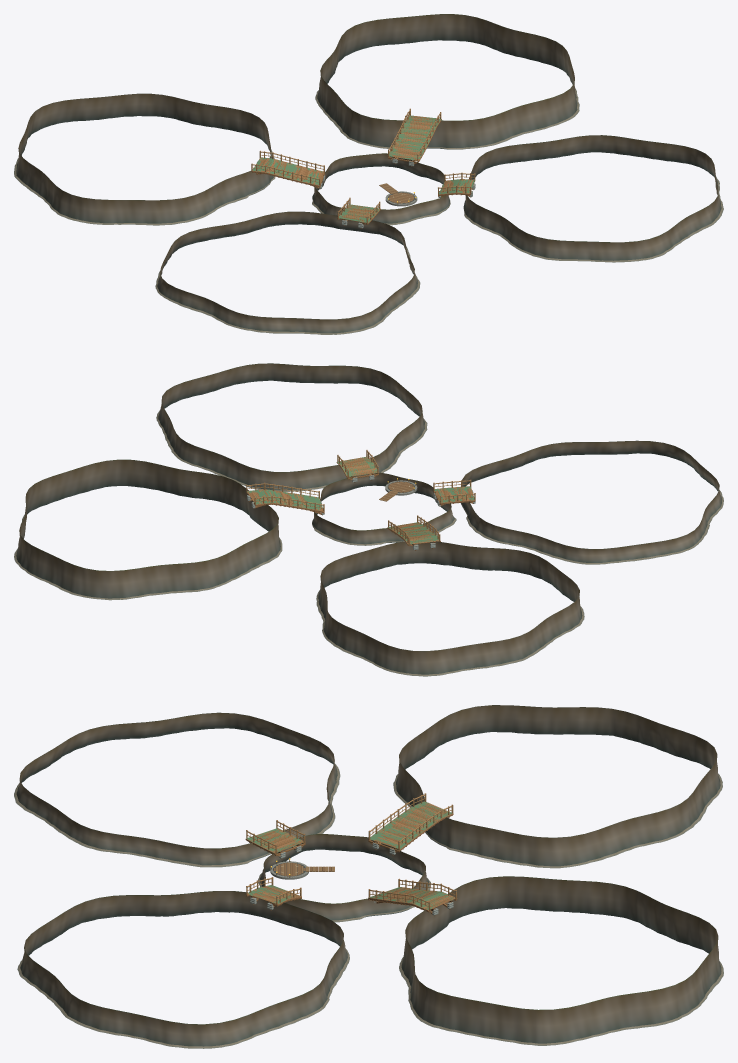
The model's file is grade6-landscape-details-v4.glb.
3 renders of one model, top to bottom at view 1: azimuth 30°, elevation 25°; view 2: azimuth 150°, elevation 25°; view 3: azimuth 270°, elevation 25°, orthographic. The views are drawn at different scales.
Parts seen in each view (by area): view 1: CoastV4_habitat-4_RockSection, CoastV4_habitat-3_RockSection, CoastV4_habitat-2_RockSection, CoastV4_habitat-1_RockSection, CoastV4_arrival_RockSection, Walk_BridgeV4_habitat-4_ContinuousProxy, CoastV4_habitat-2_WetShore, CoastV4_habitat-1_WetShore, CoastV4_habitat-3_WetShore, CoastV4_habitat-4_WetShore, Walk_BridgeV4_habitat-3_ContinuousProxy, BridgeV4_habitat-3_structure_V4_honey_rail; view 2: CoastV4_habitat-4_RockSection, CoastV4_habitat-3_RockSection, CoastV4_habitat-2_RockSection, CoastV4_habitat-1_RockSection, CoastV4_arrival_RockSection, CoastV4_habitat-3_WetShore, CoastV4_habitat-1_WetShore, CoastV4_habitat-4_WetShore, CoastV4_habitat-2_WetShore, Walk_BridgeV4_habitat-4_ContinuousProxy, BridgeV4_habitat-4_structure_V4_honey_rail; view 3: CoastV4_habitat-4_RockSection, CoastV4_habitat-3_RockSection, CoastV4_habitat-2_RockSection, CoastV4_habitat-1_RockSection, CoastV4_arrival_RockSection, CoastV4_habitat-2_WetShore, Walk_BridgeV4_habitat-3_ContinuousProxy, CoastV4_habitat-4_WetShore, CoastV4_habitat-3_WetShore, CoastV4_habitat-1_WetShore, BridgeV4_habitat-3_structure_V4_honey_rail, Walk_BridgeV4_habitat-4_ContinuousProxy (+1 smaller).
Part boxes in pixels (bbox=[...]): CoastV4_habitat-4_RockSection: bbox=[317, 14, 577, 149]; CoastV4_habitat-3_RockSection: bbox=[16, 93, 273, 223]; CoastV4_habitat-2_RockSection: bbox=[464, 135, 721, 260]; CoastV4_habitat-1_RockSection: bbox=[157, 211, 417, 333]; CoastV4_arrival_RockSection: bbox=[312, 153, 449, 223]; Walk_BridgeV4_habitat-4_ContinuousProxy: bbox=[389, 115, 440, 160]; CoastV4_habitat-2_WetShore: bbox=[463, 176, 723, 262]; CoastV4_habitat-1_WetShore: bbox=[155, 227, 420, 334]; CoastV4_habitat-3_WetShore: bbox=[14, 150, 275, 225]; CoastV4_habitat-4_WetShore: bbox=[315, 88, 579, 149]; Walk_BridgeV4_habitat-3_ContinuousProxy: bbox=[252, 157, 322, 185]; BridgeV4_habitat-3_structure_V4_honey_rail: bbox=[251, 151, 324, 185]; CoastV4_habitat-4_RockSection: bbox=[16, 459, 280, 598]; CoastV4_habitat-3_RockSection: bbox=[318, 541, 582, 674]; CoastV4_habitat-2_RockSection: bbox=[158, 363, 425, 490]; CoastV4_habitat-1_RockSection: bbox=[461, 440, 721, 562]; CoastV4_arrival_RockSection: bbox=[312, 472, 454, 544]; CoastV4_habitat-3_WetShore: bbox=[316, 562, 584, 676]; CoastV4_habitat-1_WetShore: bbox=[461, 490, 723, 564]; CoastV4_habitat-4_WetShore: bbox=[14, 514, 282, 600]; CoastV4_habitat-2_WetShore: bbox=[156, 392, 427, 491]; Walk_BridgeV4_habitat-4_ContinuousProxy: bbox=[247, 489, 322, 510]; BridgeV4_habitat-4_structure_V4_honey_rail: bbox=[246, 483, 324, 511]; CoastV4_habitat-4_RockSection: bbox=[401, 876, 721, 1043]; CoastV4_habitat-3_RockSection: bbox=[396, 705, 720, 866]; CoastV4_habitat-2_RockSection: bbox=[20, 891, 347, 1046]; CoastV4_habitat-1_RockSection: bbox=[16, 712, 337, 865]; CoastV4_arrival_RockSection: bbox=[260, 834, 428, 920]; CoastV4_habitat-2_WetShore: bbox=[17, 949, 349, 1048]; Walk_BridgeV4_habitat-3_ContinuousProxy: bbox=[370, 801, 452, 848]; CoastV4_habitat-4_WetShore: bbox=[399, 957, 723, 1045]; CoastV4_habitat-3_WetShore: bbox=[393, 774, 722, 868]; CoastV4_habitat-1_WetShore: bbox=[14, 756, 340, 867]; BridgeV4_habitat-3_structure_V4_honey_rail: bbox=[368, 794, 453, 850]; Walk_BridgeV4_habitat-4_ContinuousProxy: bbox=[369, 887, 453, 909].
Size of the model in its own units: 104 by 6.36 by 96.77.
